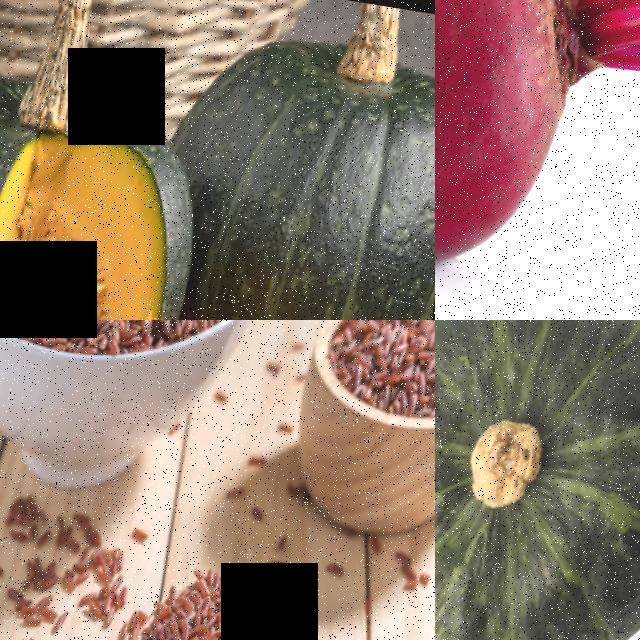pumpkin: (176, 6, 435, 320), (435, 320, 640, 640), (0, 36, 163, 320)
radishes: (435, 0, 640, 294)
red rice: (129, 550, 315, 640), (317, 320, 435, 426)
